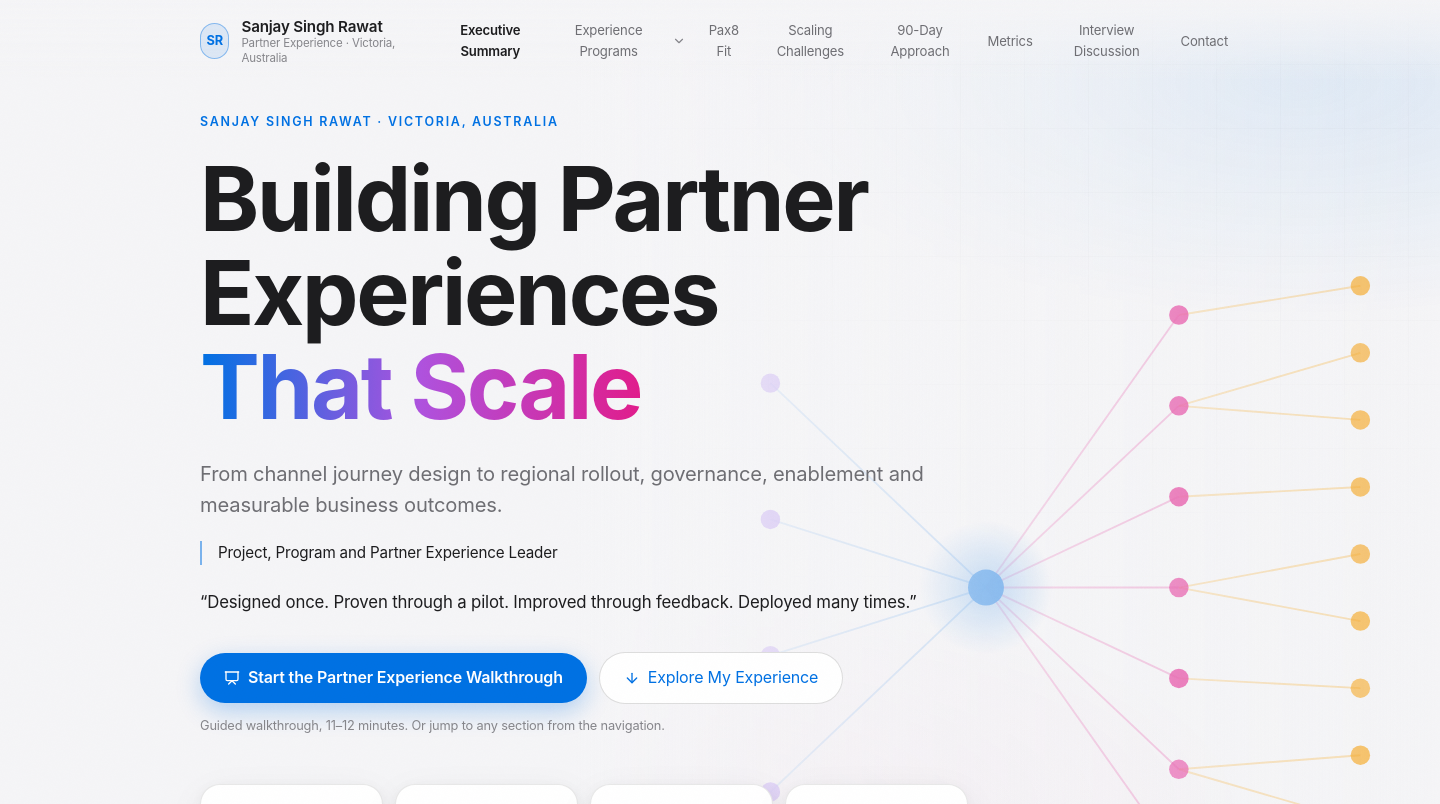
Test case: guided walkthrough › starts at the second section and reports position and time remaining
Click the button "Start the Partner Experience Walkthrough": click(393, 678) [200,653,587,703]
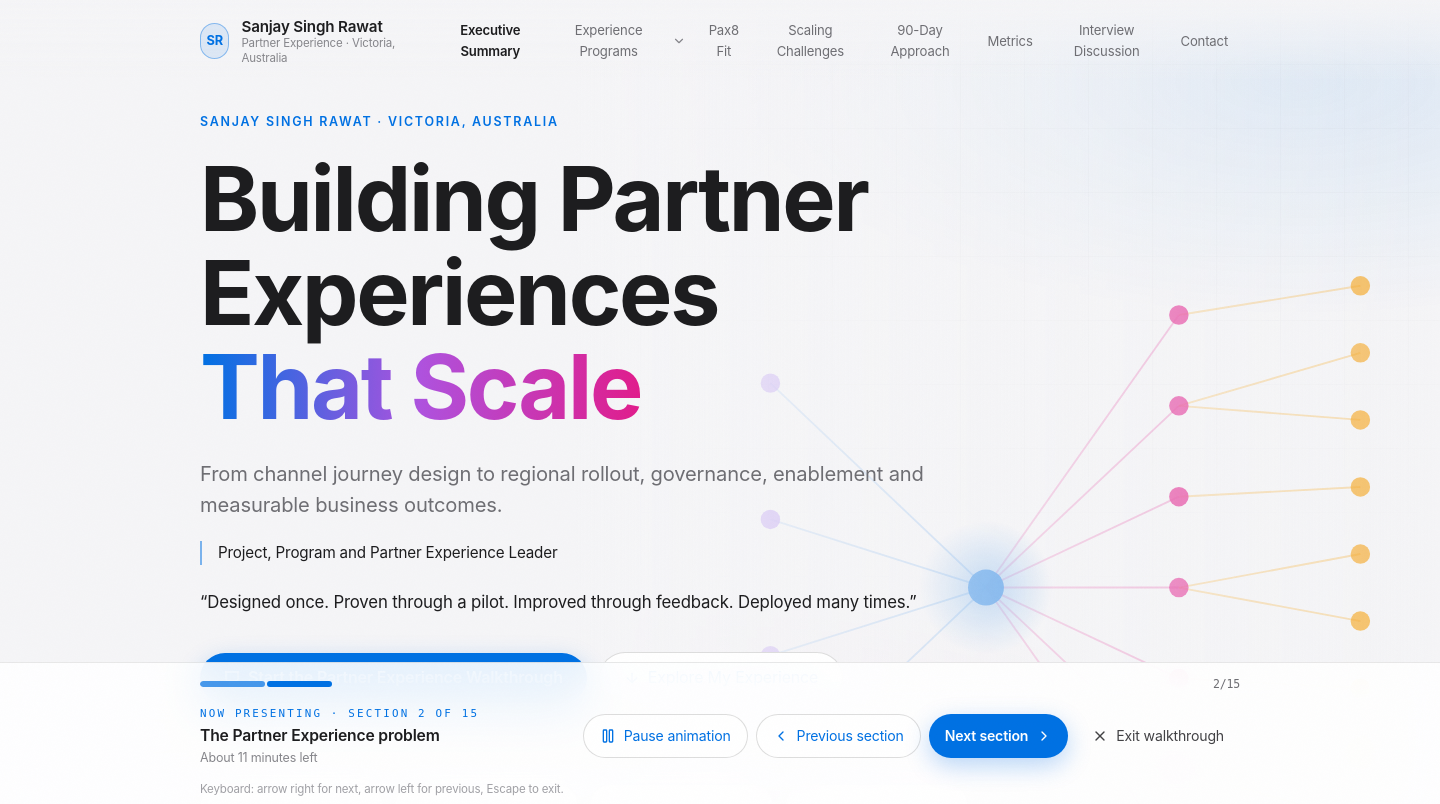
Expected: the text "The Partner Experience problem" is shown, [200,722,479,748]
Expected: the text "About 11 minutes left" is shown, [200,750,317,765]
